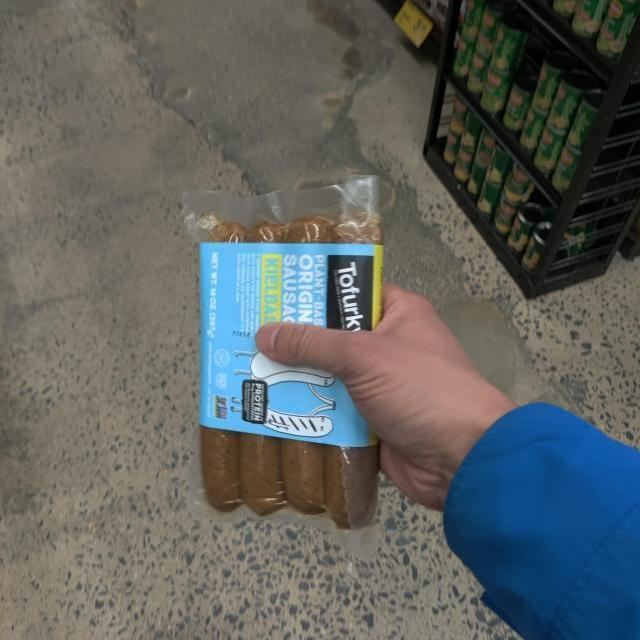Meat: (180, 171, 402, 537)
